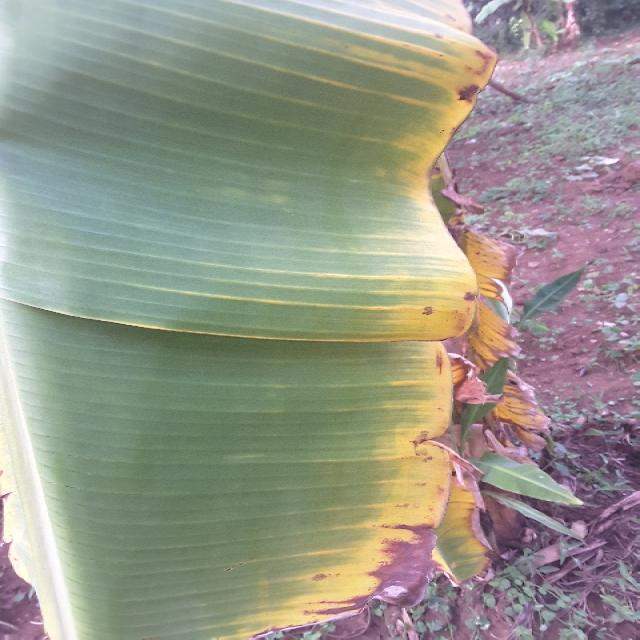Cordana: (158, 1, 558, 640)
